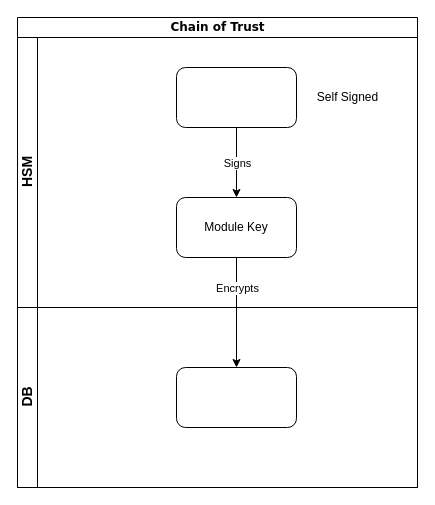
The diagram is 435 pixels wide and 505 high, and some of its shapes have lost their labels. The shapes that lost their labels are listed below. From the top down, each one's centre as x and y in pixels, then its label:
(x=236, y=97): Root Key
(x=236, y=397): Base Key
